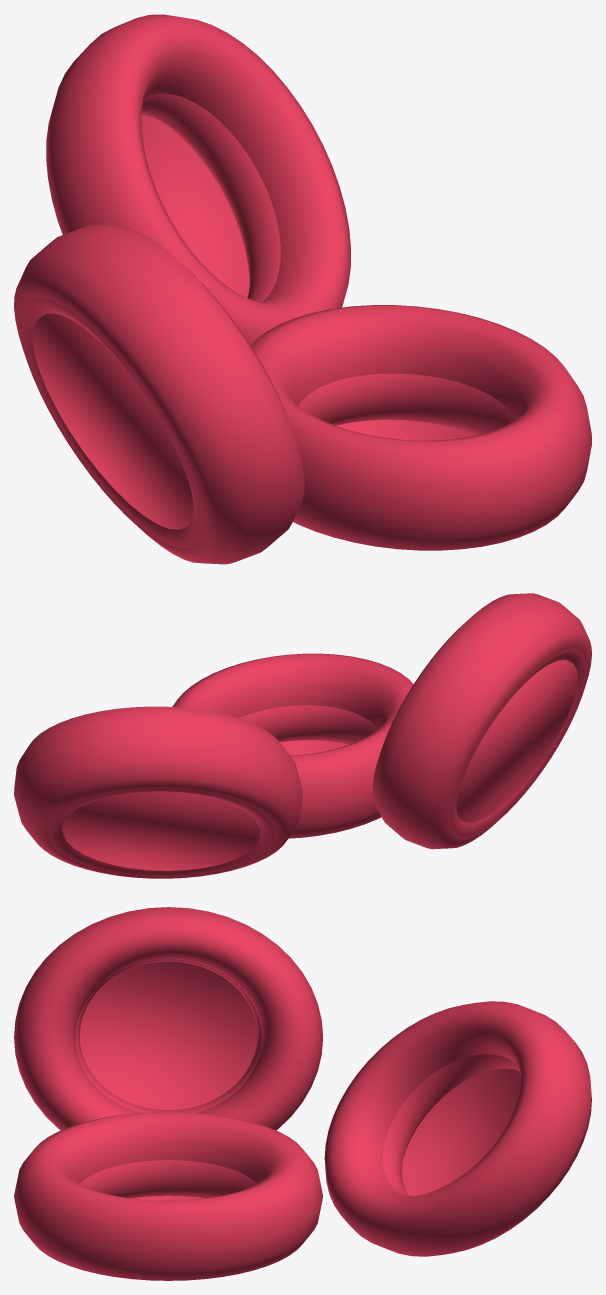
The model's file is cells.gltf.
3 renders of one model, top to bottom at view 1: azimuth 30°, elevation 25°; view 2: azimuth 150°, elevation 25°; view 3: azimuth 270°, elevation 25°, orthographic. The views are drawn at different scales.
Visible parts, largest first — view 1: Torus.001, Torus, Torus.002; view 2: Torus.001, Torus.002, Torus; view 3: Torus.002, Torus.001, Torus.
Boxes of the visible parts, box(x1,y1,x2,y2) form: Torus.001: box(46, 14, 350, 345); Torus: box(250, 305, 591, 550); Torus.002: box(14, 225, 304, 564); Torus.001: box(14, 706, 302, 878); Torus.002: box(372, 593, 591, 849); Torus: box(172, 653, 413, 838); Torus.002: box(14, 907, 322, 1130); Torus.001: box(324, 1001, 591, 1256); Torus: box(14, 1112, 322, 1280).
Bounding box in the file's own units: 8.18 × 5.01 × 11.3.
